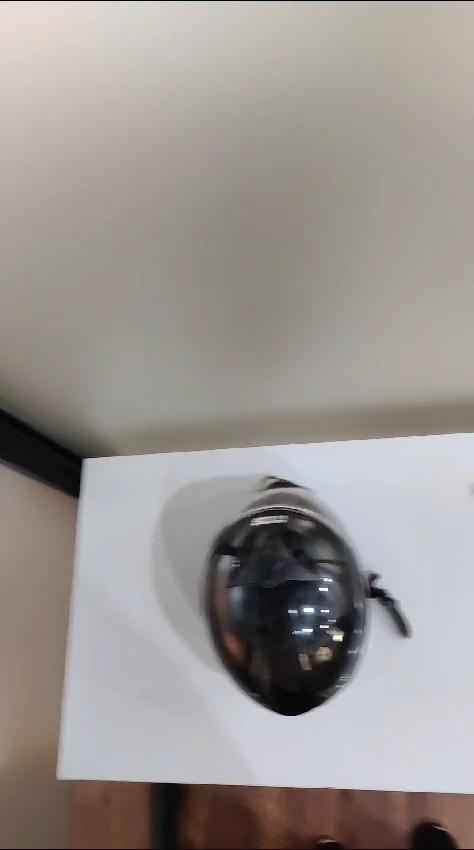Helmet: (204, 478, 410, 715)
